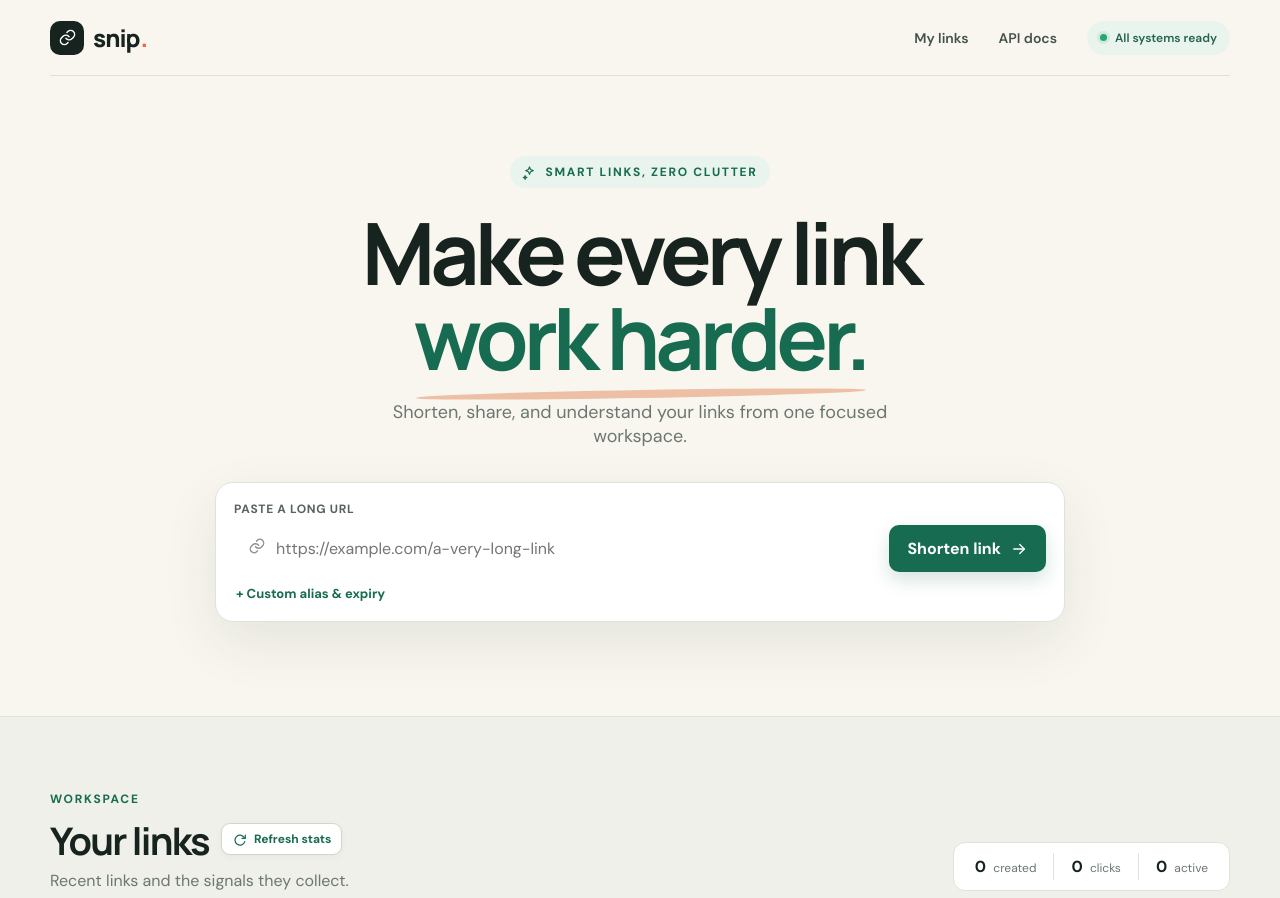
Test case: Snip dashboard › creates a short link and displays the result
Type "https://example.com/launch" into the field labelled "Paste a long URL" at (578, 549), box x1=276 y1=525 x2=879 y2=572
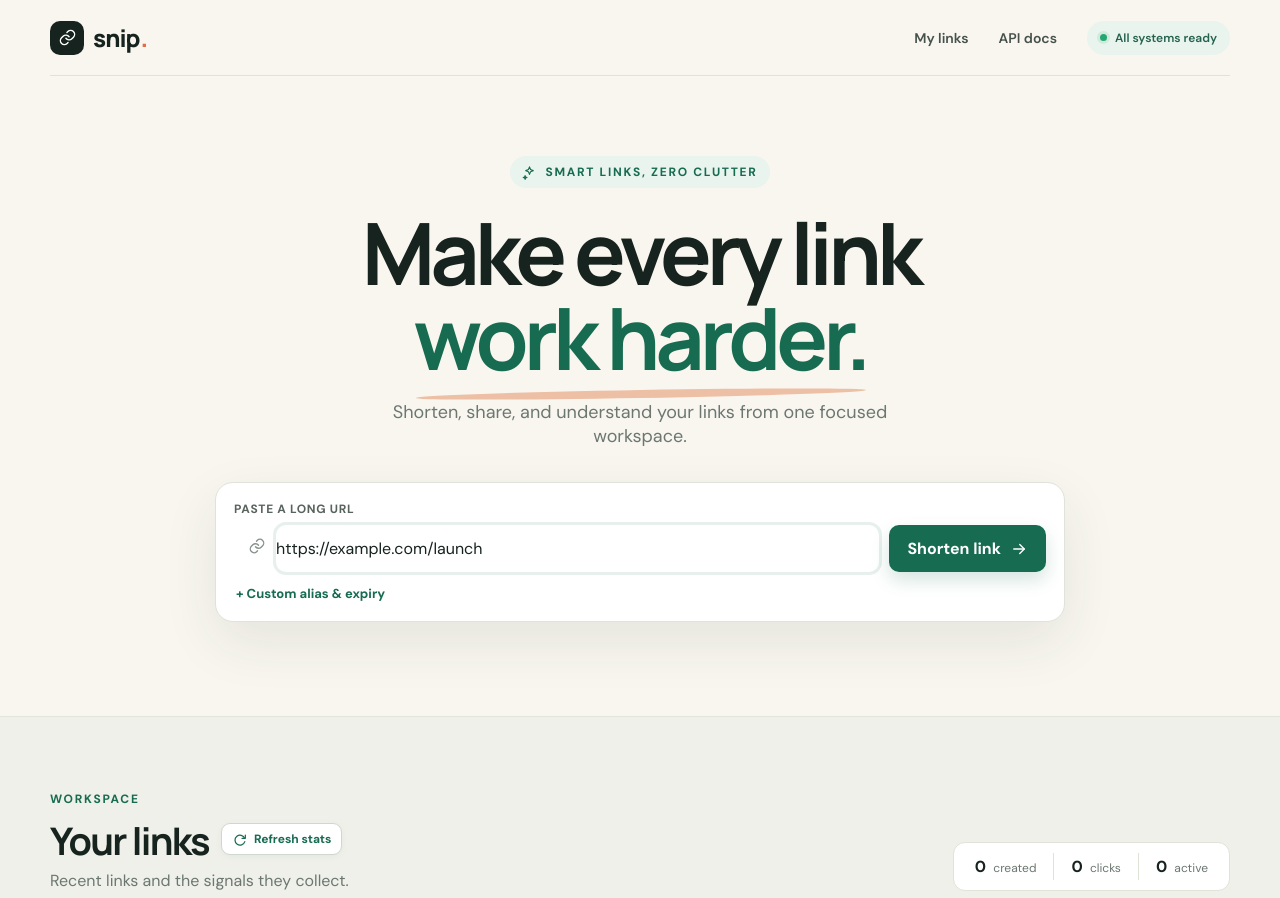
Click the button "Shorten link" at (968, 549), box x1=889 y1=525 x2=1046 y2=572
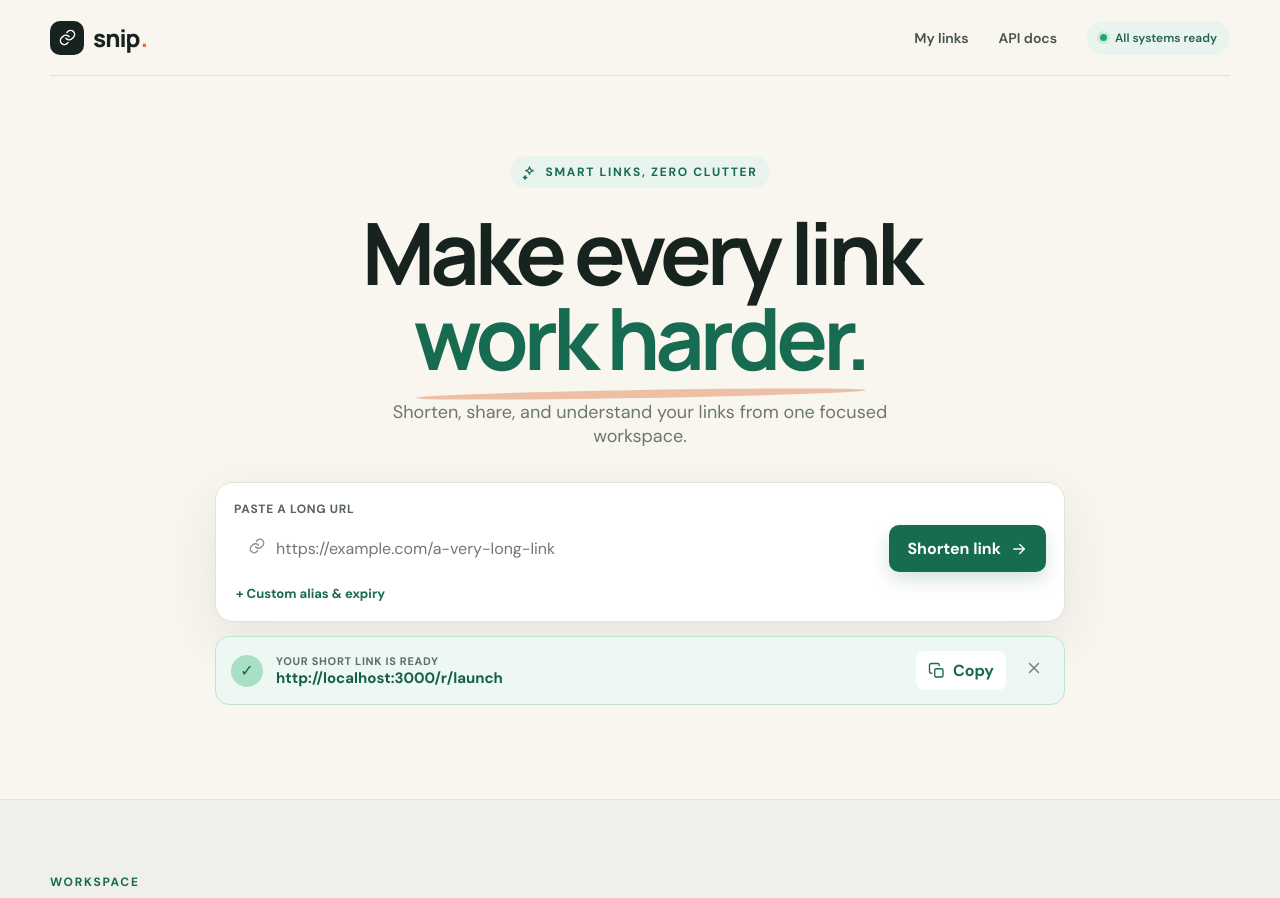
Check: the text "Your short link is ready" is shown, box x1=276 y1=654 x2=439 y2=668
Check: the text "http://localhost:3000/r/launch" is shown, box x1=276 y1=668 x2=503 y2=688
